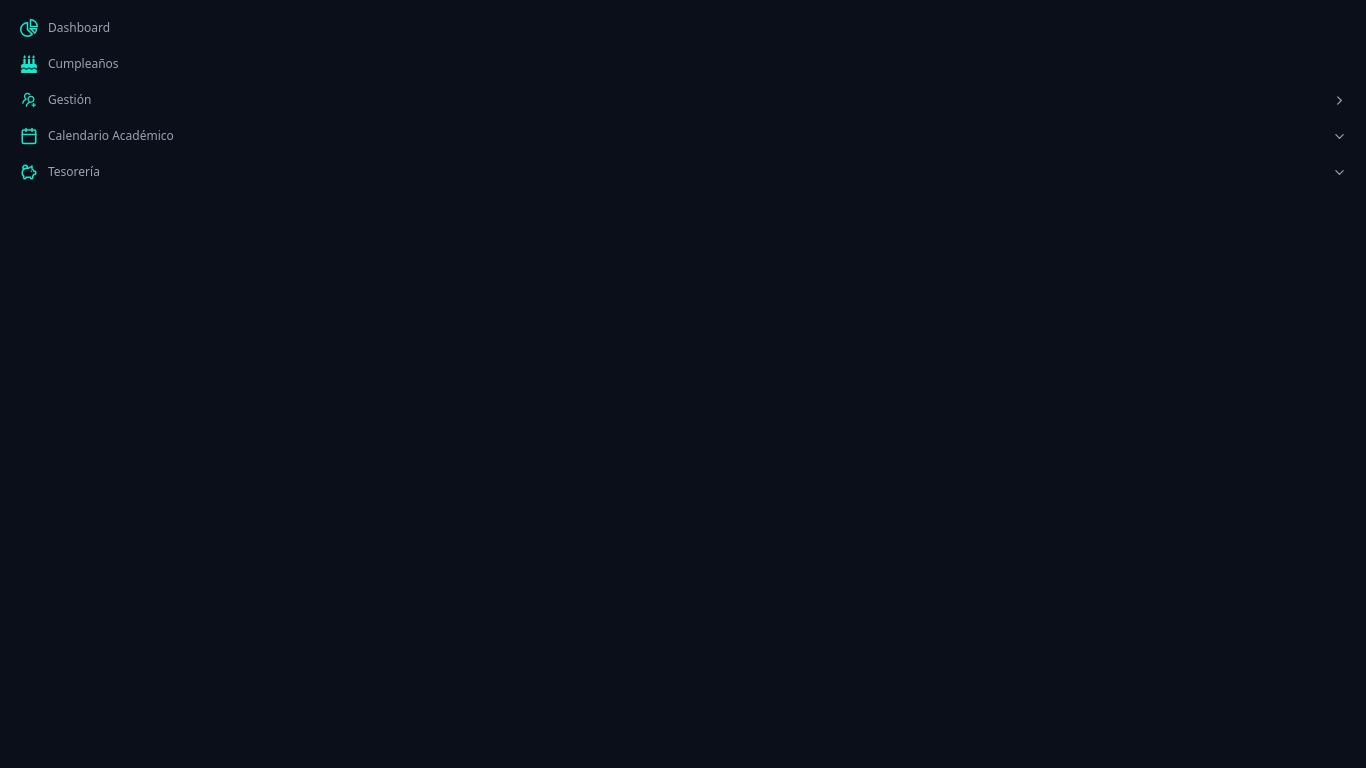
Scenario: Sidebar Component › [Sidebar #08.3] Mantiene abierto el submenú de Tesorería sin temporizador
Click the button "Tesorería": (74, 171) [8,156,1358,188]
Wait 6000 ms
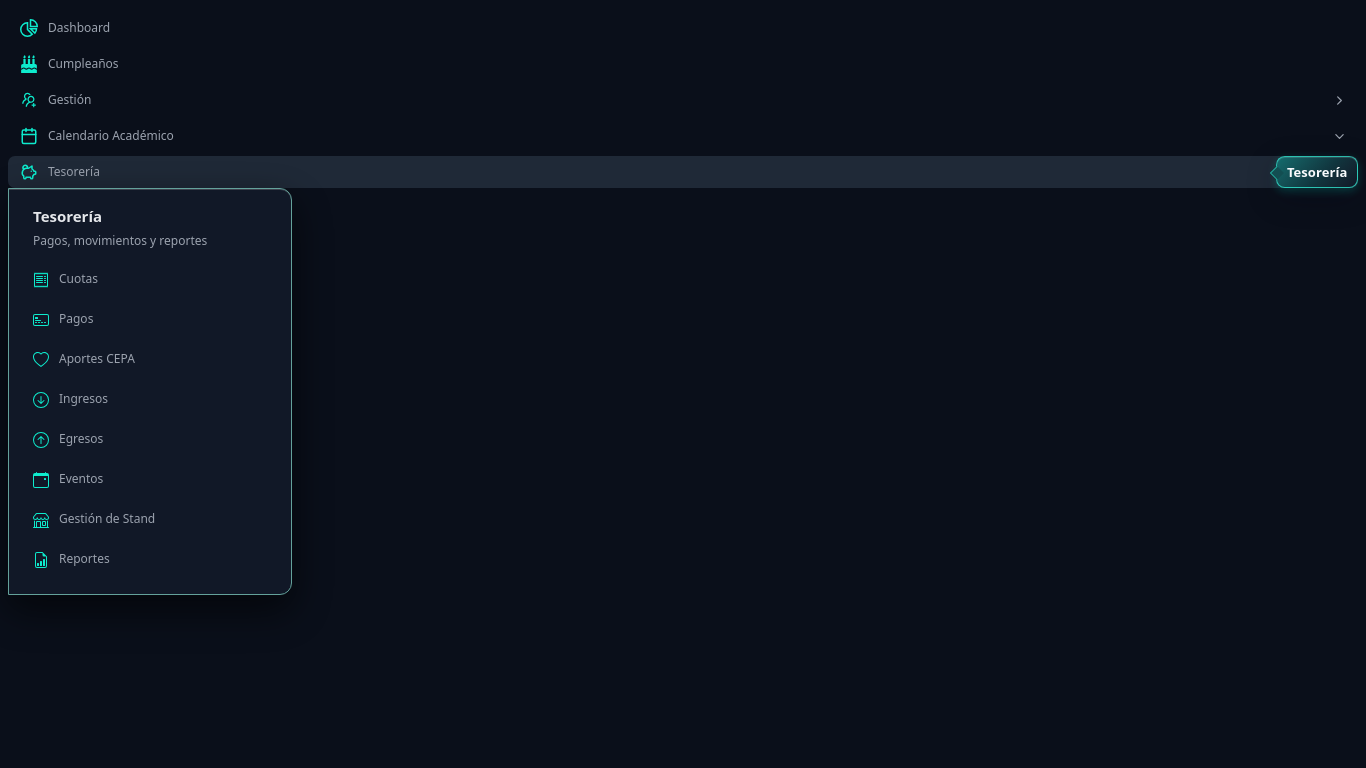
Check: the link "Cuotas" is shown, box [33,270,98,288]
Check: the button "Tesorería" is expanded, box [8,156,1358,188]
